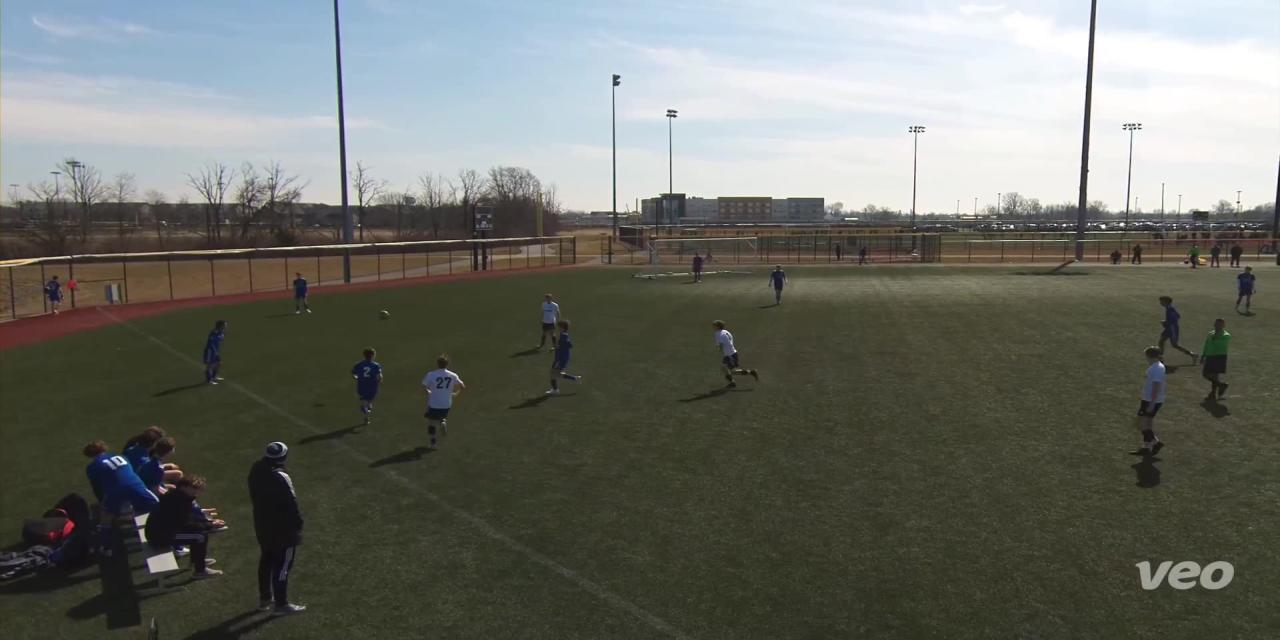goal: (631, 229, 765, 280)
sports ball: (376, 305, 394, 324)
